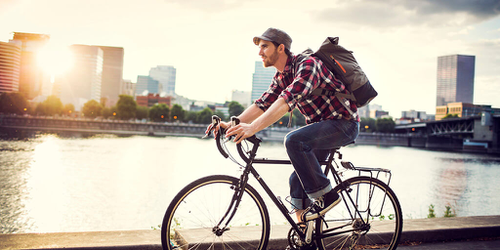bikerider: (157, 24, 426, 250)
